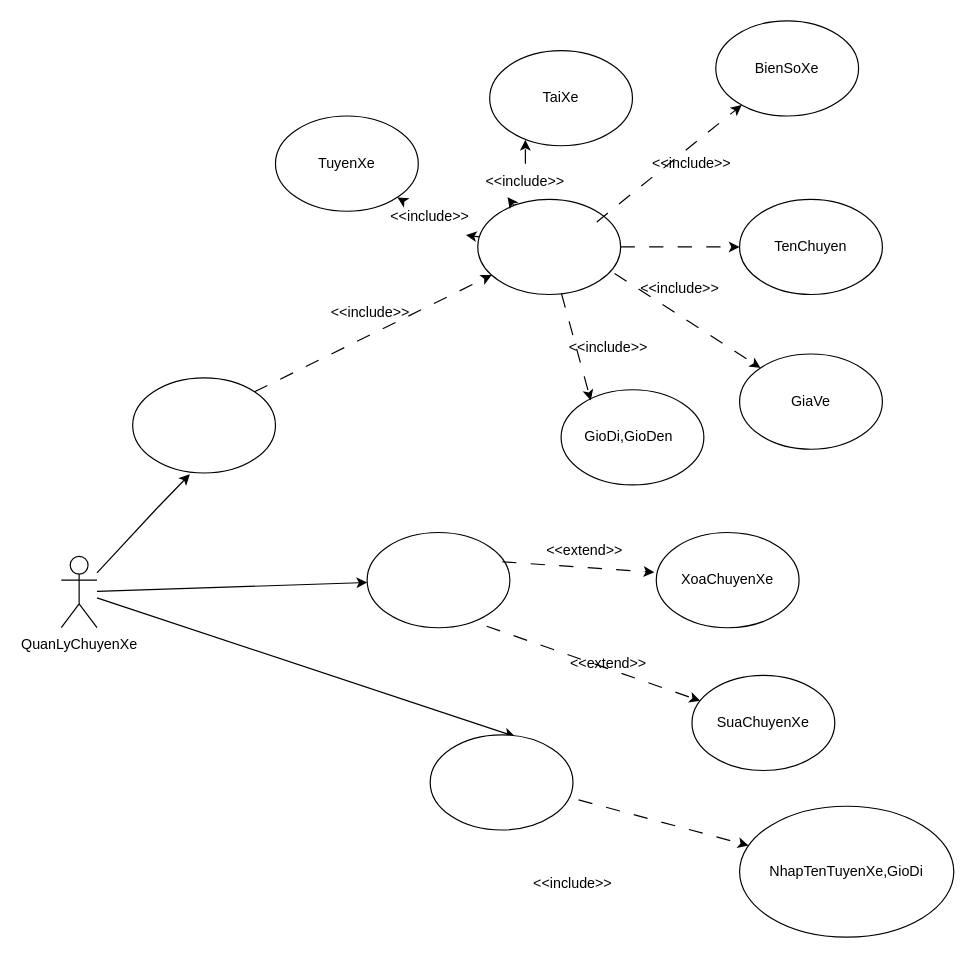
The diagram is 975 pixels wide and 958 high, and some of its shapes have lost their labels. The shapes that lost their labels are listed below. From the top down, each one's centre as x and y in pixels, then its label:
At pixel 549 246: "NhaoThongtin".
At pixel 203 425: "ThemChuyenXe".
At pixel 438 579: "ChonChuyenXe".
At pixel 501 782: "TimChuyenXe".
